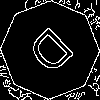D: (25, 25, 84, 84)
